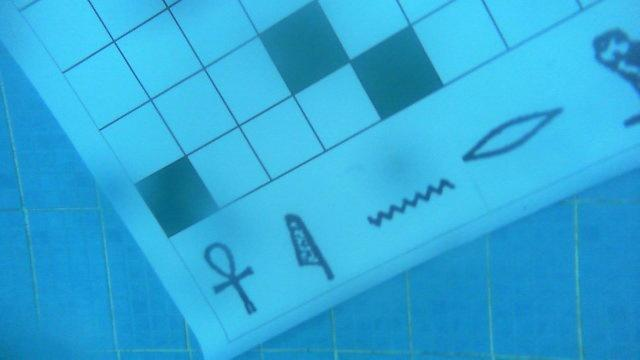Ankh: (202, 238, 259, 317)
Mouth: (460, 102, 564, 165)
Reed: (282, 212, 338, 283)
Water: (366, 175, 458, 226)
